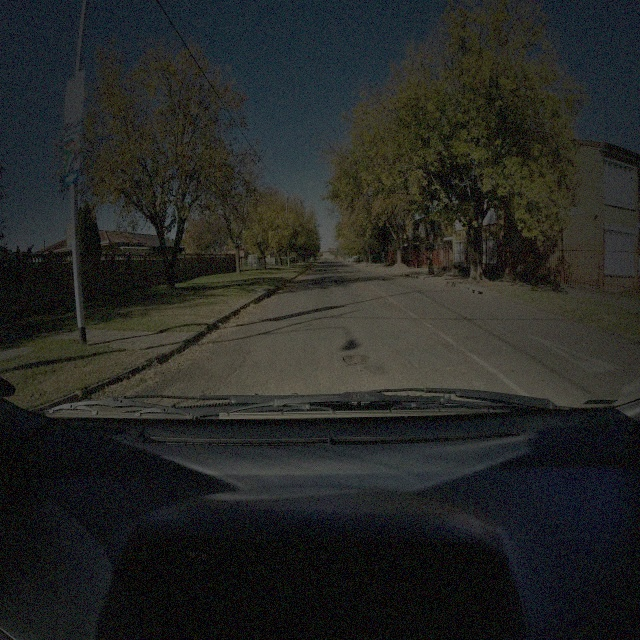pothole: (341, 352, 370, 367)
